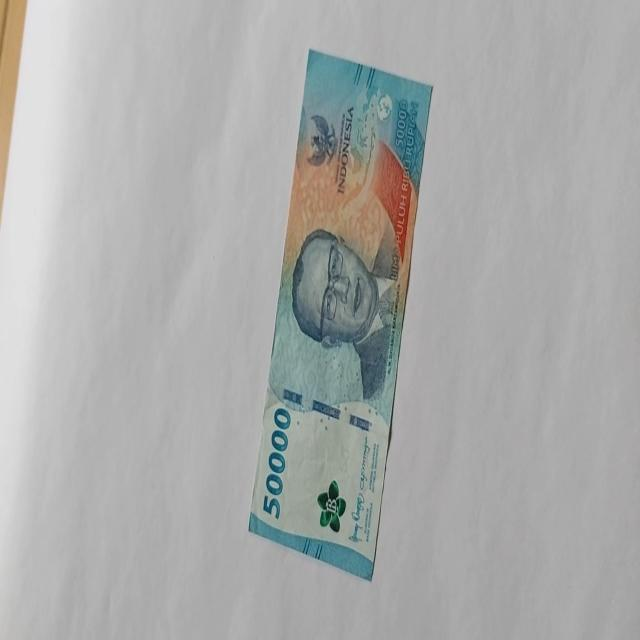lima puluh ribu rupiah: (247, 48, 433, 580), (290, 224, 398, 404)
